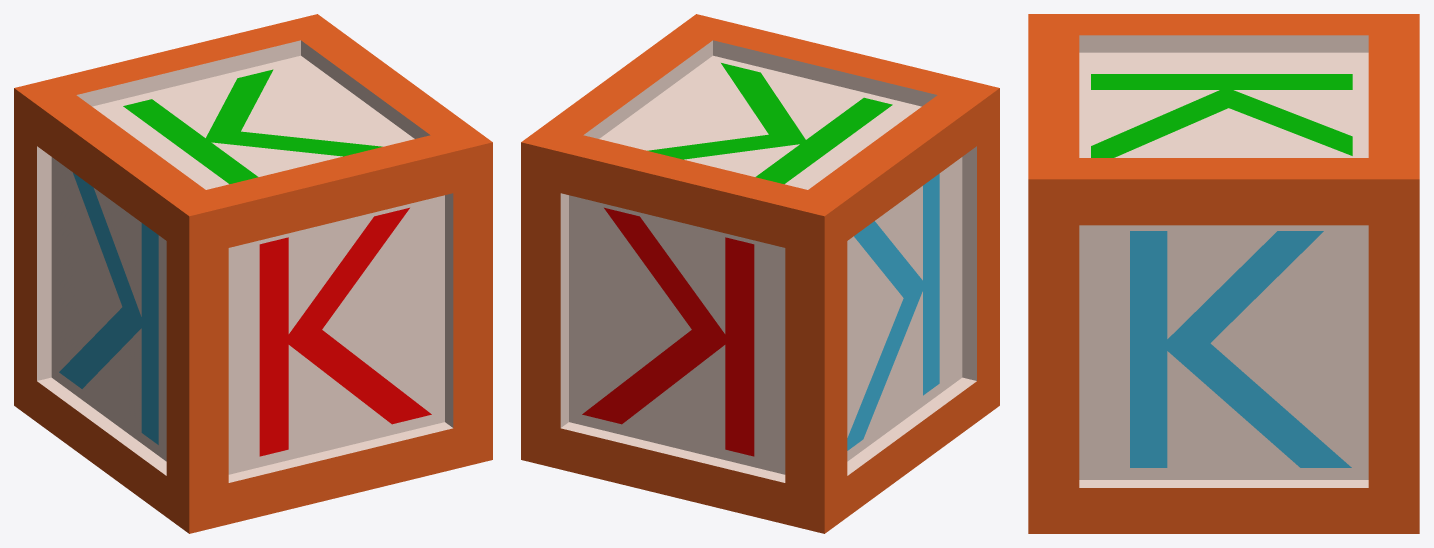
The model's file is Prop_KidsCube_K.fbx.
The picture shows the model from 3 angles, left to right: view 1: azimuth 30°, elevation 25°; view 2: azimuth 150°, elevation 25°; view 3: azimuth 270°, elevation 25°; orthographic projection. The views are drawn at different scales.
Parts seen in each view (by area): view 1: Prop_KidsCube_K; view 2: Prop_KidsCube_K; view 3: Prop_KidsCube_K.
Boxes of the visible parts, x1,y1,x2,y2 form: Prop_KidsCube_K: (14, 14, 492, 533); Prop_KidsCube_K: (521, 14, 999, 533); Prop_KidsCube_K: (1028, 14, 1419, 533).
Bounding box in the file's own units: 20.93 × 20.93 × 20.93.
